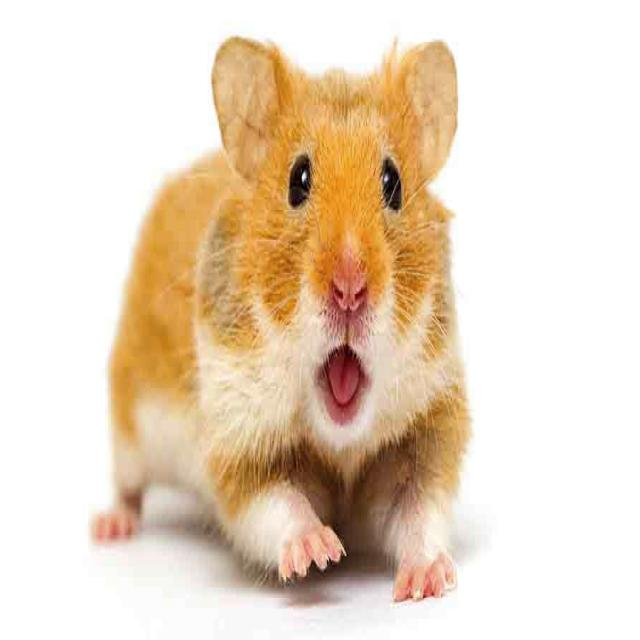hamster: (95, 37, 470, 599)
